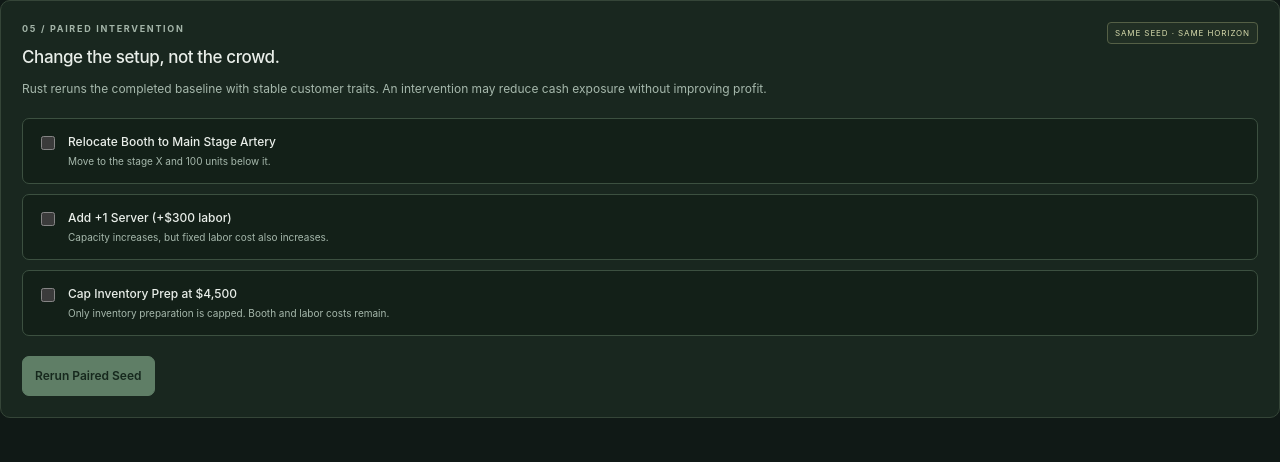
Test: refuses a mismatched paired horizon
Click the checkbox labelled "Cap Inventory Prep". click: x=48, y=295
box: x1=41 y1=288 x2=55 y2=302
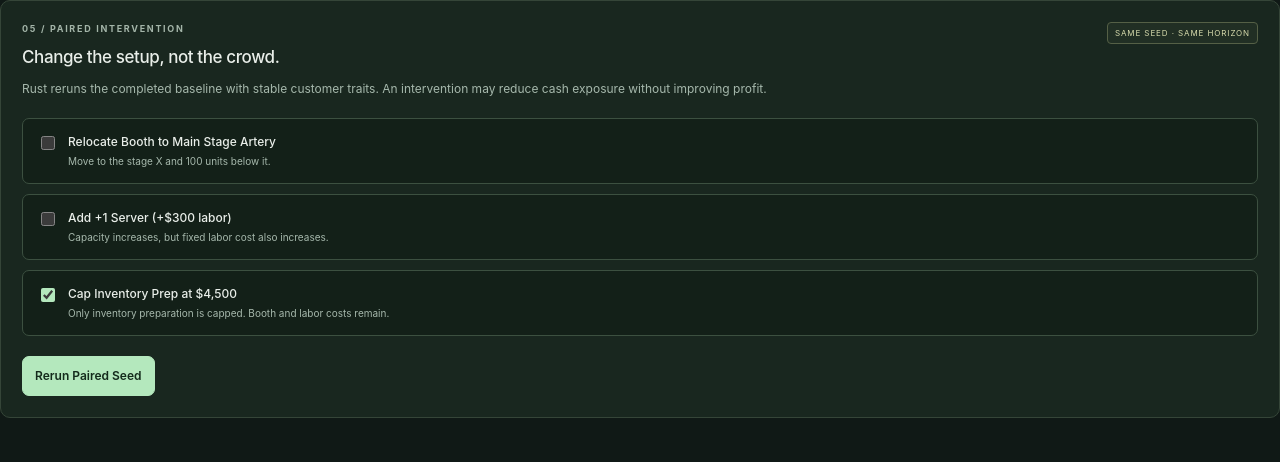
Click the button "Rerun Paired Seed". click: x=88, y=376
box: x1=22 y1=356 x2=154 y2=396
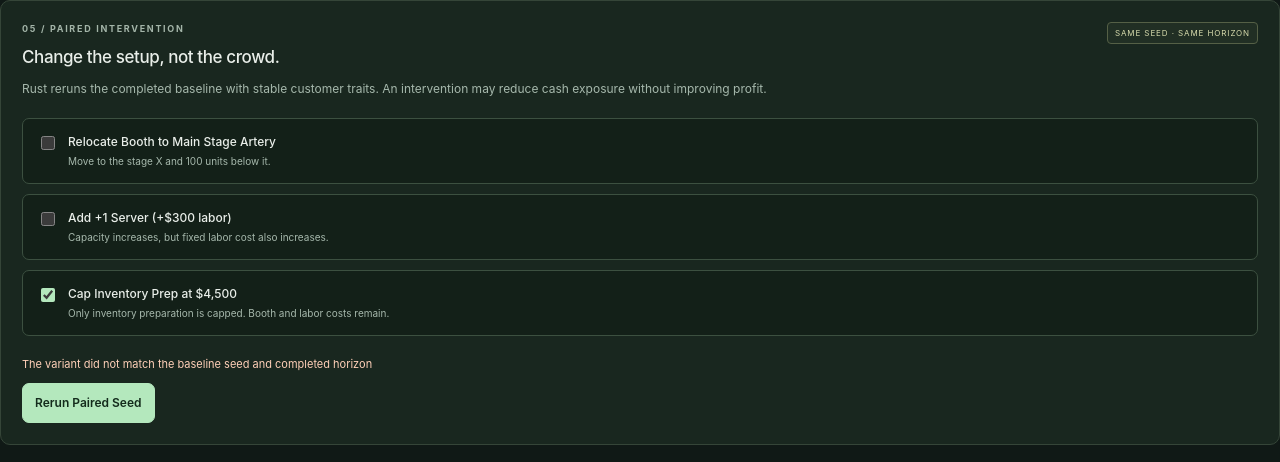
Now the text "The variant did not match the baseline seed and completed horizon" is shown, box x1=22 y1=357 x2=372 y2=371
